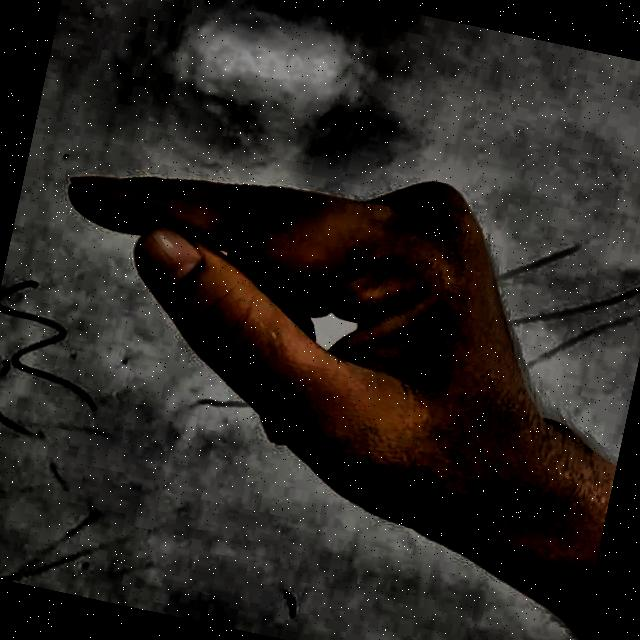Tha: (0, 83, 640, 640)
